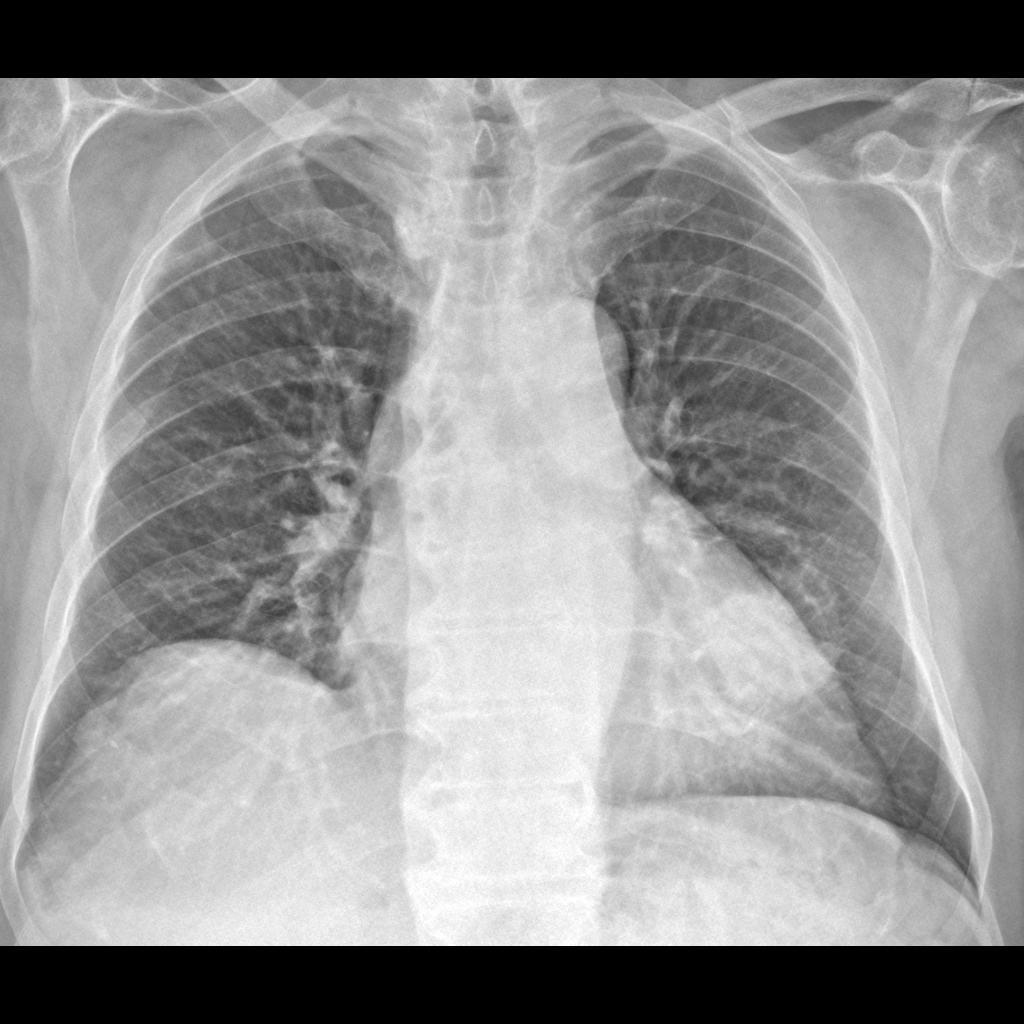Nodule: (693, 580, 846, 728)
